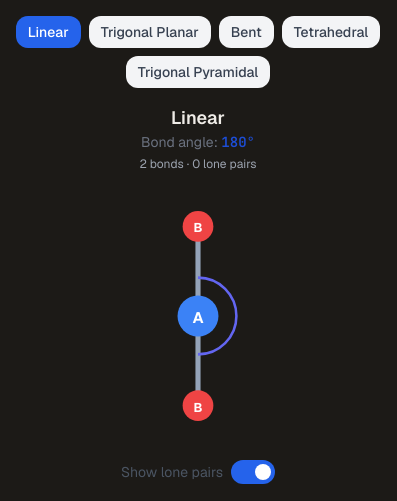
Test: MolecularGeometry › switches to trigonal planar on click
Click the button "Trigonal Planar".
click(150, 32)  # box [89,16,211,48]
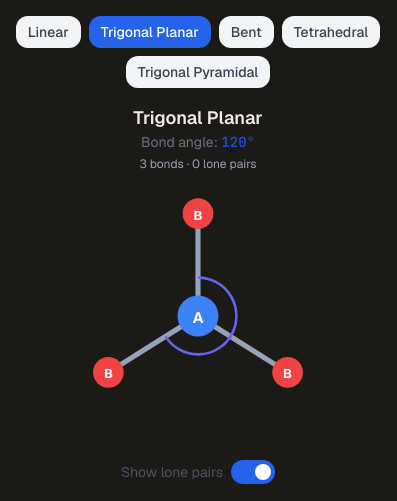
Result: the text with test id "shape-name" reads "Trigonal Planar" at [133,106,263,129]
Result: the text with test id "bond-angle" shows "120" at [221,133,255,151]
